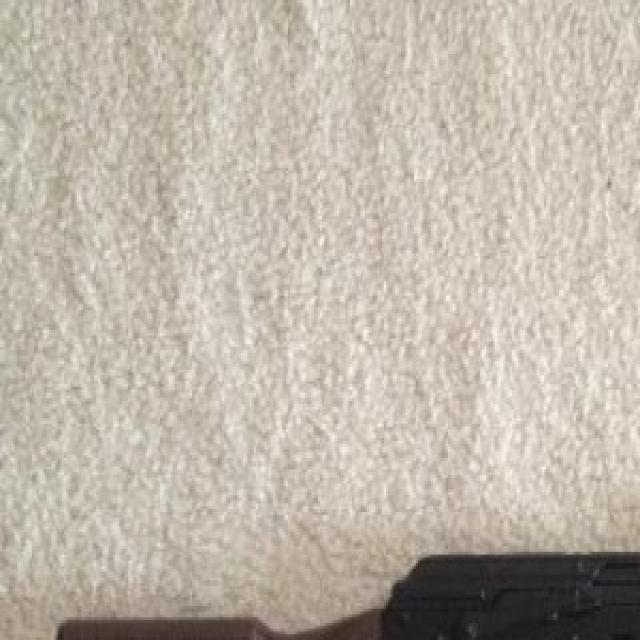Guns: (21, 486, 640, 640)
